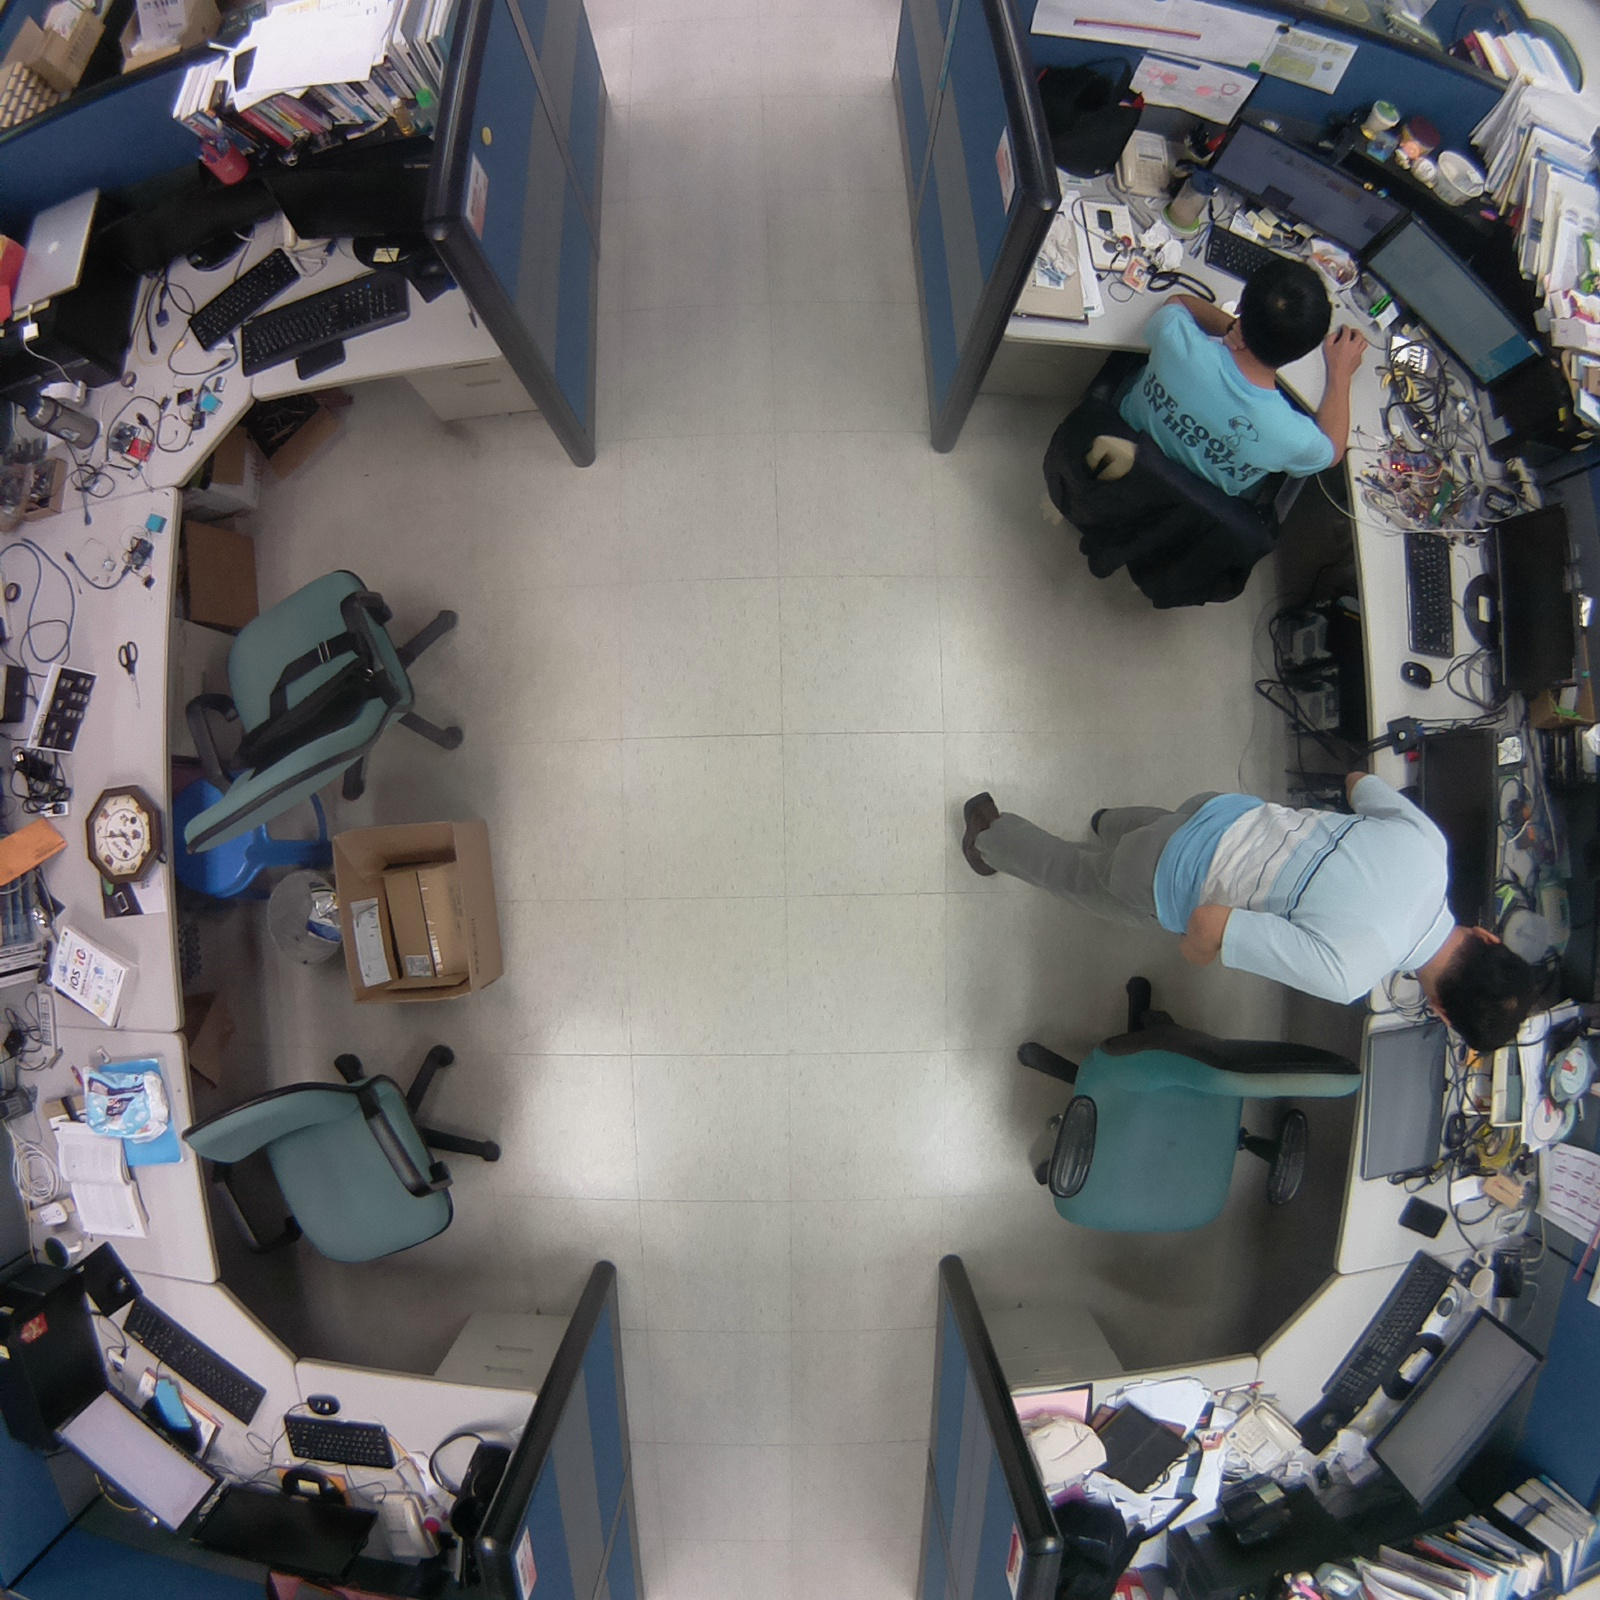chair: (999, 965, 1381, 1255), (165, 545, 491, 863), (165, 1024, 517, 1278)
head: (1437, 920, 1541, 1057), (1229, 253, 1337, 363)
sitting: (1029, 261, 1378, 632)
standing: (951, 726, 1548, 1071)
